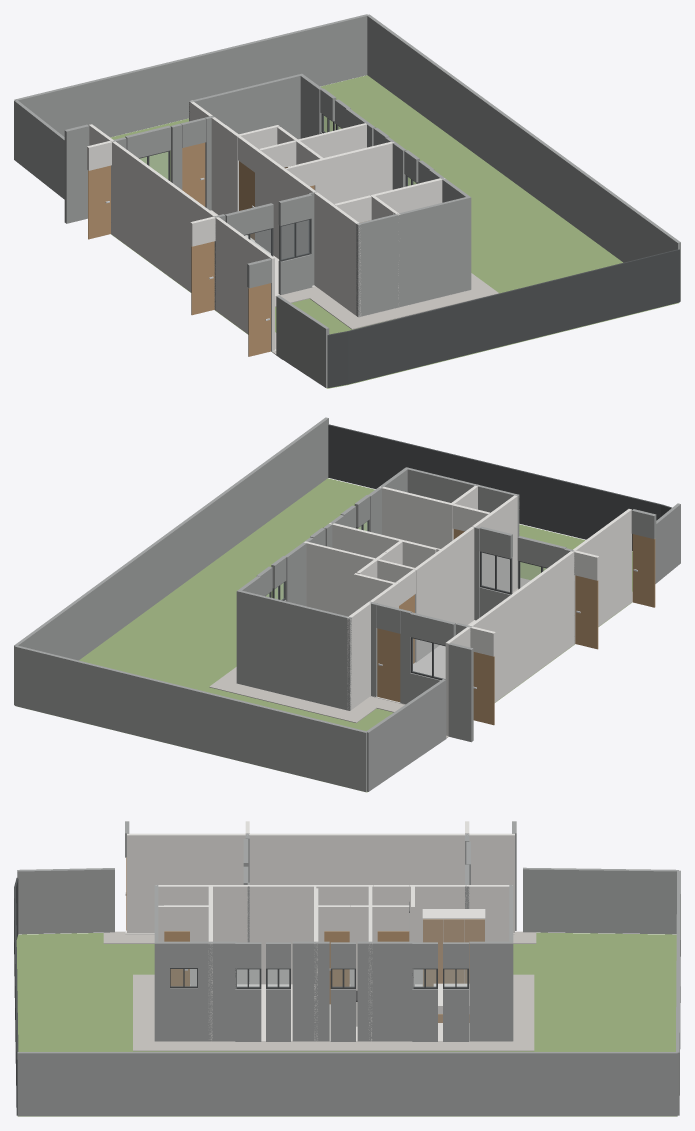
The model's file is casa.glb.
The picture shows the model from 3 angles, top to bottom: view 1: azimuth 30°, elevation 25°; view 2: azimuth 150°, elevation 25°; view 3: azimuth 270°, elevation 25°; orthographic projection. The views are drawn at different scales.
Parts seen in each view (by area): view 1: fachada, parede, esquadria, grama, concreto, vidro, door5_swing__porta, door4_swing__porta, door6_swing__porta, door2_swing__porta, door9_swing__porta; view 2: fachada, parede, grama, esquadria, vidro, concreto, door2_swing__porta, door5_swing__porta, door6_swing__porta, door4_swing__porta, piso; view 3: fachada, parede, grama, concreto, madeira, vidro, esquadria, piso, armario, door1_swing__porta, door7_swing__porta.
Boxes of the visible parts, x1,y1,x2,y2 form: fachada: [14, 14, 680, 388]; parede: [87, 100, 445, 350]; esquadria: [139, 114, 679, 387]; grama: [110, 75, 678, 388]; concreto: [272, 273, 498, 359]; vidro: [140, 115, 416, 259]; door5_swing__porta: [191, 241, 214, 315]; door4_swing__porta: [88, 165, 110, 239]; door6_swing__porta: [248, 283, 270, 356]; door2_swing__porta: [182, 142, 205, 206]; door9_swing__porta: [239, 161, 254, 240]; fachada: [14, 417, 680, 791]; parede: [304, 484, 631, 735]; grama: [30, 478, 632, 792]; esquadria: [265, 424, 671, 679]; vidro: [266, 521, 546, 678]; concreto: [209, 578, 632, 738]; door2_swing__porta: [377, 628, 400, 702]; door5_swing__porta: [575, 575, 598, 649]; door6_swing__porta: [632, 534, 655, 607]; door4_swing__porta: [473, 652, 494, 725]; piso: [370, 601, 632, 735]; fachada: [17, 821, 680, 1116]; parede: [127, 821, 514, 1041]; grama: [16, 932, 677, 1116]; concreto: [103, 931, 536, 1051]; madeira: [423, 919, 484, 1022]; vidro: [171, 969, 466, 986]; esquadria: [14, 877, 468, 1115]; piso: [125, 931, 514, 1041]; armario: [356, 909, 485, 1026]; door1_swing__porta: [324, 931, 349, 1004]; door7_swing__porta: [164, 931, 189, 986].
Size of the model in its own units: 12.11 by 2.83 by 17.31.
